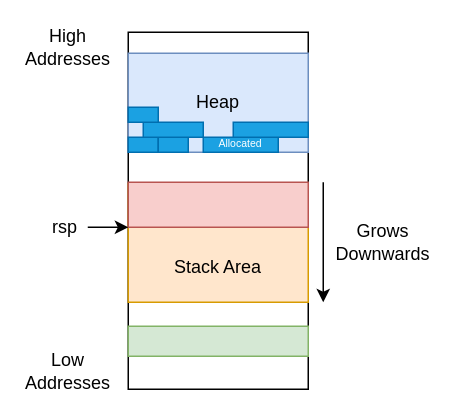
This 456x419 diagram has some shape labels left out. Here are the shapes that lost their labels. From the top down, the centre of each, then its label:
(217,204): Allocated Stack
(217,340): Program Code
